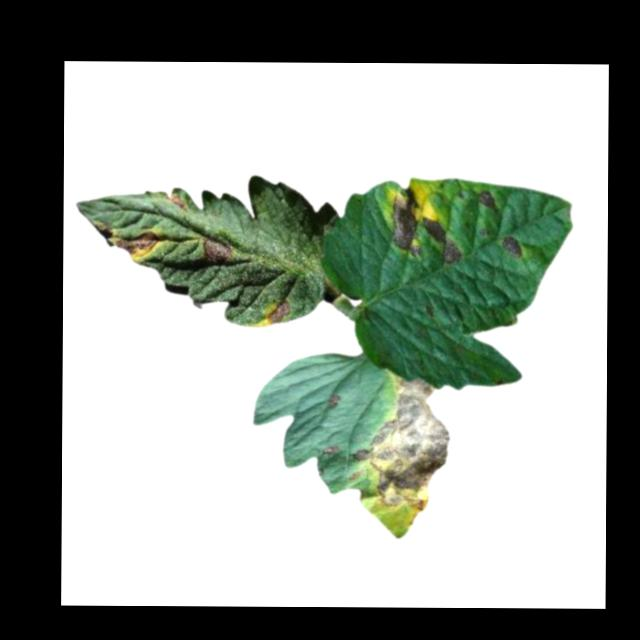Early_blight: (350, 374, 452, 510), (389, 189, 463, 265), (115, 228, 165, 259), (201, 233, 236, 264), (267, 298, 291, 323), (478, 189, 501, 210), (502, 235, 524, 254), (167, 192, 187, 211), (324, 440, 342, 455), (326, 390, 341, 408)
